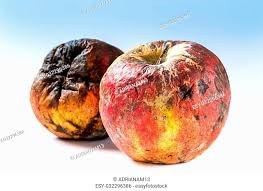damaged_apple: (101, 42, 233, 163), (31, 36, 128, 144)
